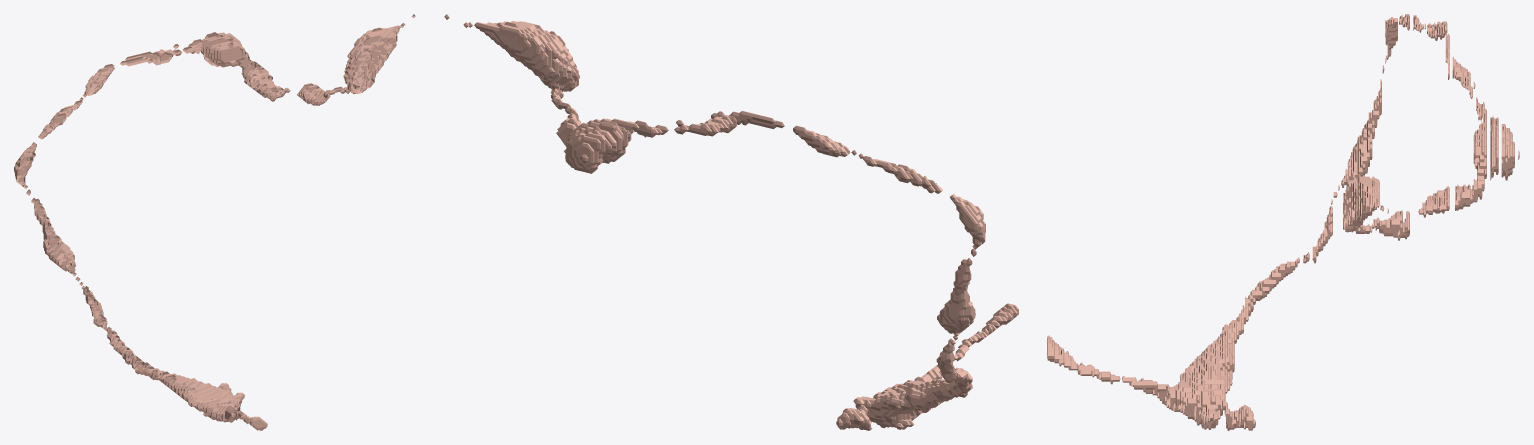
File: SVV_SMBDL.gltf
3 renders of one model, left to right at view 1: azimuth 30°, elevation 25°; view 2: azimuth 150°, elevation 25°; view 3: azimuth 270°, elevation 25°, orthographic. The views are drawn at different scales.
Visible parts, largest first — view 1: SMBDL; view 2: SMBDL; view 3: SMBDL.
Boxes of the visible parts, box(x1,y1,x2,y2) form: SMBDL: box(14, 14, 415, 430); SMBDL: box(444, 14, 1018, 430); SMBDL: box(1047, 14, 1519, 430).
Size of the model in its own units: 99379 by 70687 by 77726.
